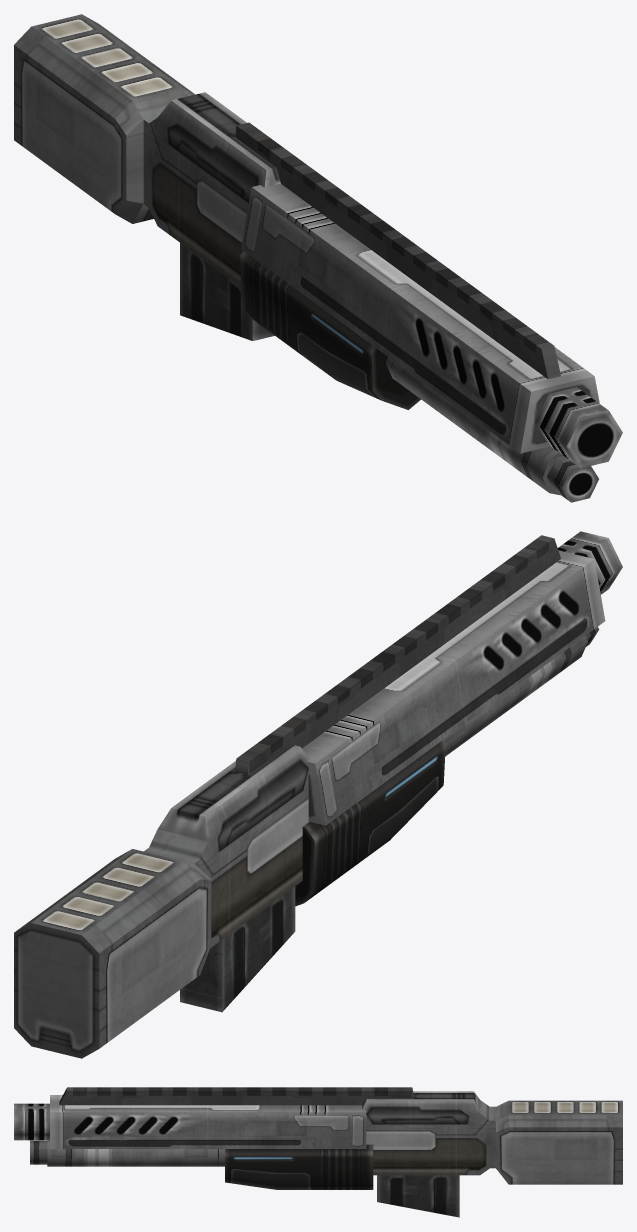
Rendered from weapon_shotgun_5.fbx.
3 renders of one model, top to bottom at view 1: azimuth 30°, elevation 25°; view 2: azimuth 150°, elevation 25°; view 3: azimuth 270°, elevation 25°, orthographic. The views are drawn at different scales.
Visible parts, largest first — view 1: shotgun5; view 2: shotgun5; view 3: shotgun5.
Part boxes in pixels (<box>): shotgun5: <box>14,14,622,502</box>; shotgun5: <box>14,531,622,1058</box>; shotgun5: <box>14,1087,622,1217</box>.
Size of the model in its own units: 0.3376 by 0.8195 by 3.69.
1 material, 1 textured.
